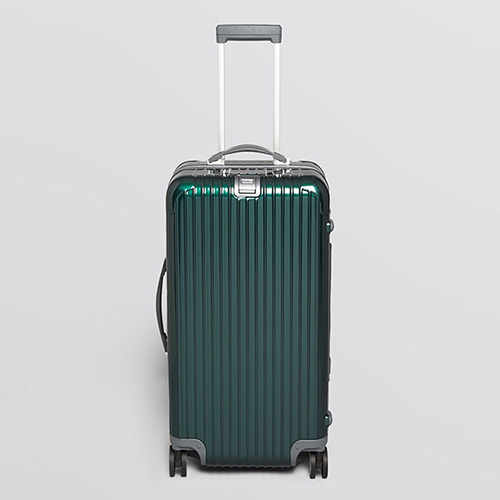luggage: (155, 25, 337, 479)
